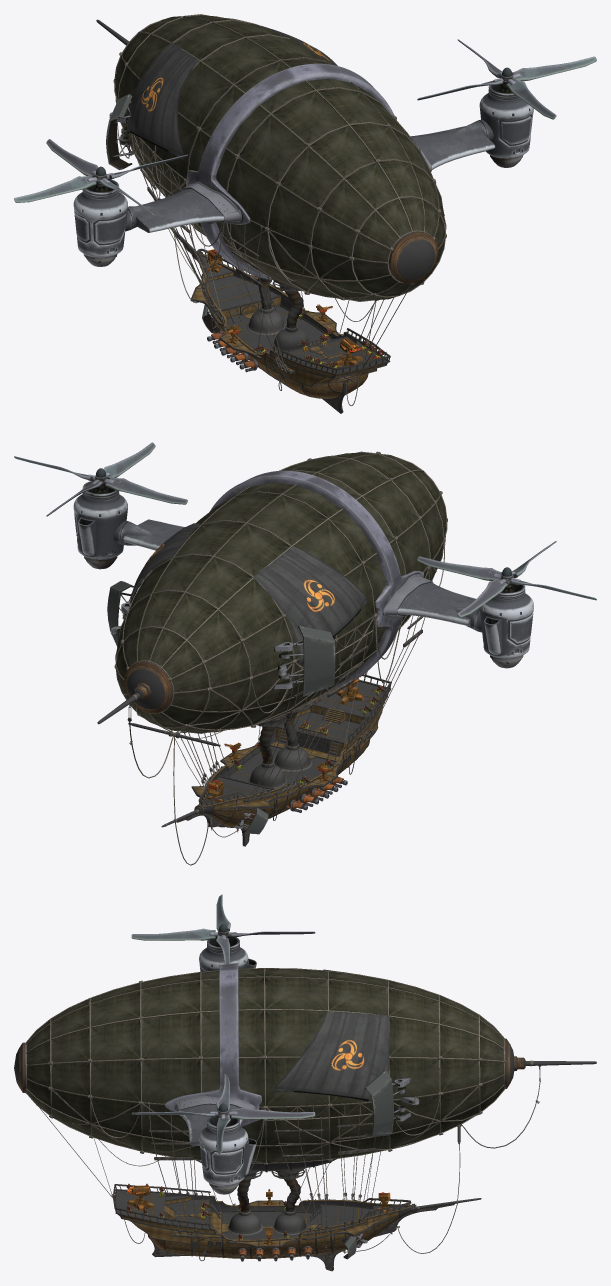
File: zeppelin_rex.glb
3 views of the same model, one above another, from view 1: azimuth 30°, elevation 25°; view 2: azimuth 150°, elevation 25°; view 3: azimuth 270°, elevation 25° (orthographic). The views are drawn at different scales.
Visible parts, largest first — view 1: blimp-geometry_3, blimp-geometry_1, blimp-geometry_6, L_turbine, R_turbine, deck-geometry, blimp-geometry_4, deck-geometry_2, deck-geometry_5, R_propeller, L_propeller, blimp-geometry (+5 smaller); view 2: blimp-geometry_3, blimp-geometry_1, blimp-geometry_4, L_turbine, blimp-geometry_6, deck-geometry, R_turbine, deck-geometry_2, flapstop, deck-geometry_5, L_propeller, R_propeller (+5 smaller); view 3: blimp-geometry_3, blimp-geometry_1, blimp-geometry_4, deck-geometry, deck-geometry_2, R_turbine, blimp-geometry_6, deck-geometry_5, deck-geometry_6, flapstop, R_propeller, L_propeller (+6 smaller).
Part boxes in pixels (left/top/right/bottom): blimp-geometry_3: left=115, top=15, right=445, bottom=300; blimp-geometry_1: left=113, top=14, right=446, bottom=372; blimp-geometry_6: left=182, top=63, right=432, bottom=280; L_turbine: left=73, top=179, right=224, bottom=266; R_turbine: left=410, top=84, right=533, bottom=169; deck-geometry: left=170, top=228, right=390, bottom=397; blimp-geometry_4: left=127, top=25, right=337, bottom=161; deck-geometry_2: left=175, top=234, right=390, bottom=413; deck-geometry_5: left=192, top=254, right=386, bottom=385; R_propeller: left=417, top=39, right=596, bottom=119; L_propeller: left=14, top=139, right=187, bottom=216; blimp-geometry: left=96, top=19, right=435, bottom=367; blimp-geometry_3: left=116, top=452, right=446, bottom=732; blimp-geometry_1: left=114, top=451, right=447, bottom=865; blimp-geometry_4: left=130, top=523, right=367, bottom=664; L_turbine: left=397, top=582, right=533, bottom=668; blimp-geometry_6: left=209, top=470, right=433, bottom=687; deck-geometry: left=161, top=675, right=391, bottom=830; R_turbine: left=73, top=481, right=184, bottom=569; deck-geometry_2: left=177, top=674, right=391, bottom=846; flapstop: left=107, top=581, right=335, bottom=698; deck-geometry_5: left=194, top=687, right=386, bottom=810; L_propeller: left=417, top=541, right=596, bottom=617; R_propeller: left=14, top=442, right=187, bottom=516; blimp-geometry_3: left=27, top=968, right=503, bottom=1162; blimp-geometry_1: left=19, top=968, right=540, bottom=1253; blimp-geometry_4: left=273, top=969, right=389, bottom=1101; deck-geometry: left=113, top=1159, right=481, bottom=1255; deck-geometry_2: left=112, top=1161, right=454, bottom=1271; R_turbine: left=179, top=1104, right=256, bottom=1194; blimp-geometry_6: left=164, top=963, right=261, bottom=1126; deck-geometry_5: left=120, top=1193, right=410, bottom=1246; deck-geometry_6: left=151, top=1215, right=398, bottom=1258; flapstop: left=364, top=1070, right=419, bottom=1136; R_propeller: left=131, top=1074, right=315, bottom=1153; L_propeller: left=131, top=894, right=315, bottom=964.
Bounding box in the file's own units: 95.92 × 51.91 × 91.94.
14 materials, 13 textured.
